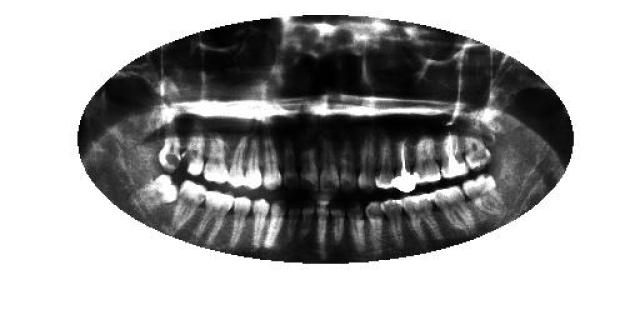Cavity: (158, 128, 182, 174), (182, 129, 206, 175)
Implant: (441, 132, 469, 178), (394, 138, 416, 194)
Restorations: (138, 174, 178, 208)
